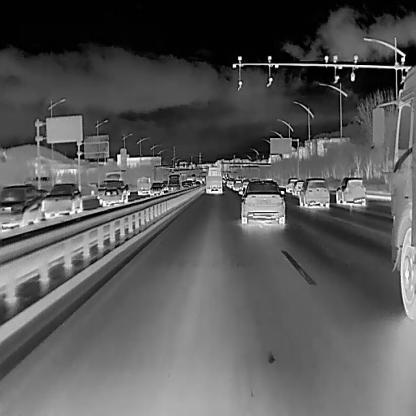car: (238, 177, 285, 224), (0, 183, 42, 231), (42, 182, 83, 218), (298, 176, 330, 208), (335, 175, 367, 206), (101, 178, 128, 207), (203, 164, 223, 195), (165, 172, 181, 195), (136, 175, 151, 195), (284, 176, 298, 193), (291, 180, 306, 195), (149, 181, 162, 197), (179, 180, 192, 193), (230, 177, 243, 190), (227, 180, 234, 188)
